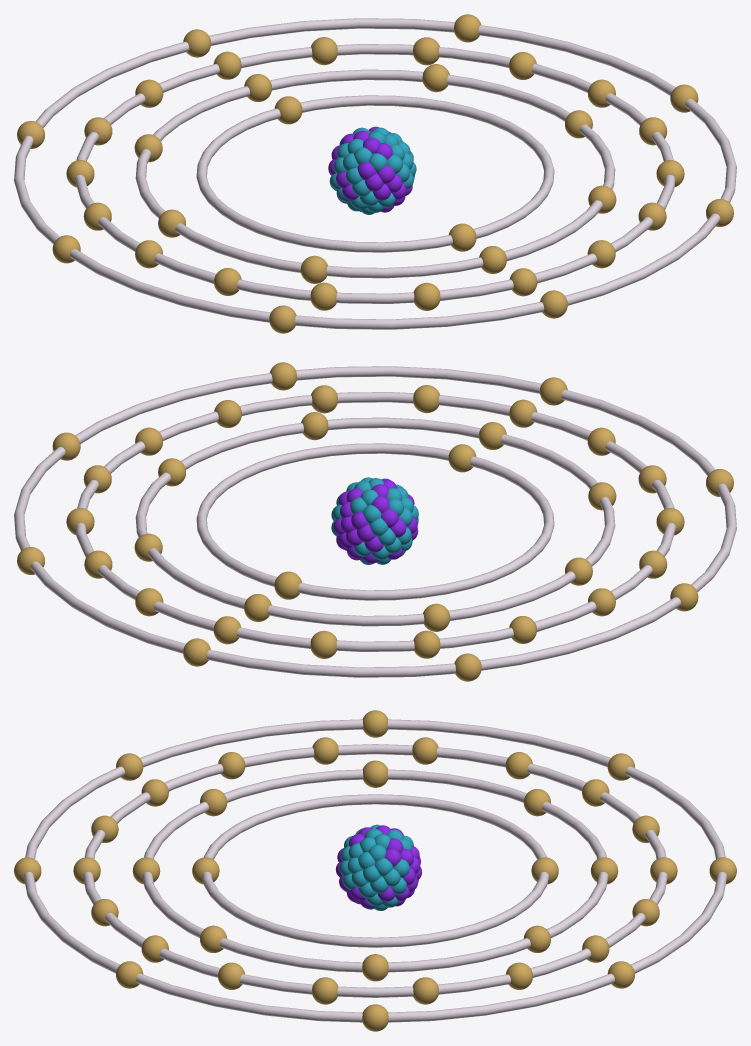
The model's file is criptonio.glb.
3 renders of one model, top to bottom at view 1: azimuth 30°, elevation 25°; view 2: azimuth 150°, elevation 25°; view 3: azimuth 270°, elevation 25°, orthographic. The views are drawn at different scales.
Visible parts, largest first — view 1: Orbita_4, Orbita_3, Orbita_2, Orbita_1, Nucleo_Completo, Eletron_C3_17, Eletron_C3_18, Eletron_C4_8, Eletron_C3_8, Eletron_C2_8, Eletron_C3_9, Eletron_C4_4 (+29 smaller); view 2: Orbita_4, Orbita_3, Orbita_2, Orbita_1, Nucleo_Completo, Eletron_C3_12, Eletron_C3_11, Eletron_C4_6, Eletron_C3_3, Eletron_C2_6, Eletron_C3_2, Eletron_C4_2 (+29 smaller); view 3: Orbita_4, Orbita_3, Orbita_2, Orbita_1, Nucleo_Completo, Eletron_C4_3, Eletron_C2_3, Eletron_C3_5, Eletron_C3_6, Eletron_C3_14, Eletron_C3_15, Eletron_C4_7 (+17 smaller).
Boxes of the visible parts, x1=… form: Orbita_4: x1=14, y1=18, x2=736, y2=329; Orbita_3: x1=75, y1=44, x2=675, y2=303; Orbita_2: x1=135, y1=69, x2=615, y2=278; Orbita_1: x1=196, y1=95, x2=554, y2=252; Nucleo_Completo: x1=328, y1=126, x2=416, y2=214; Eletron_C3_17: x1=310, y1=282, x2=337, y2=310; Eletron_C3_18: x1=413, y1=282, x2=440, y2=310; Eletron_C4_8: x1=269, y1=305, x2=296, y2=333; Eletron_C3_8: x1=413, y1=37, x2=439, y2=65; Eletron_C2_8: x1=300, y1=255, x2=327, y2=283; Eletron_C3_9: x1=311, y1=37, x2=337, y2=65; Eletron_C4_4: x1=454, y1=14, x2=481, y2=42; Orbita_4: x1=14, y1=366, x2=736, y2=677; Orbita_3: x1=75, y1=392, x2=675, y2=651; Orbita_2: x1=135, y1=417, x2=615, y2=626; Orbita_1: x1=196, y1=443, x2=554, y2=600; Nucleo_Completo: x1=331, y1=477, x2=418, y2=564; Eletron_C3_12: x1=413, y1=630, x2=440, y2=658; Eletron_C3_11: x1=310, y1=630, x2=337, y2=658; Eletron_C4_6: x1=454, y1=653, x2=481, y2=681; Eletron_C3_3: x1=311, y1=385, x2=337, y2=413; Eletron_C2_6: x1=423, y1=603, x2=450, y2=631; Eletron_C3_2: x1=413, y1=385, x2=439, y2=413; Eletron_C4_2: x1=269, y1=362, x2=296, y2=390; Orbita_4: x1=23, y1=719, x2=727, y2=1022; Orbita_3: x1=83, y1=744, x2=667, y2=997; Orbita_2: x1=142, y1=769, x2=608, y2=972; Orbita_1: x1=202, y1=794, x2=548, y2=947; Nucleo_Completo: x1=335, y1=824, x2=421, y2=910; Eletron_C4_3: x1=362, y1=1004, x2=388, y2=1031; Eletron_C2_3: x1=362, y1=954, x2=388, y2=981; Eletron_C3_5: x1=312, y1=977, x2=338, y2=1004; Eletron_C3_6: x1=412, y1=977, x2=438, y2=1004; Eletron_C3_14: x1=412, y1=737, x2=438, y2=764; Eletron_C3_15: x1=312, y1=737, x2=338, y2=764; Eletron_C4_7: x1=362, y1=710, x2=388, y2=737.
Size of the model in its own units: 4.26 by 0.5073 by 4.26.
